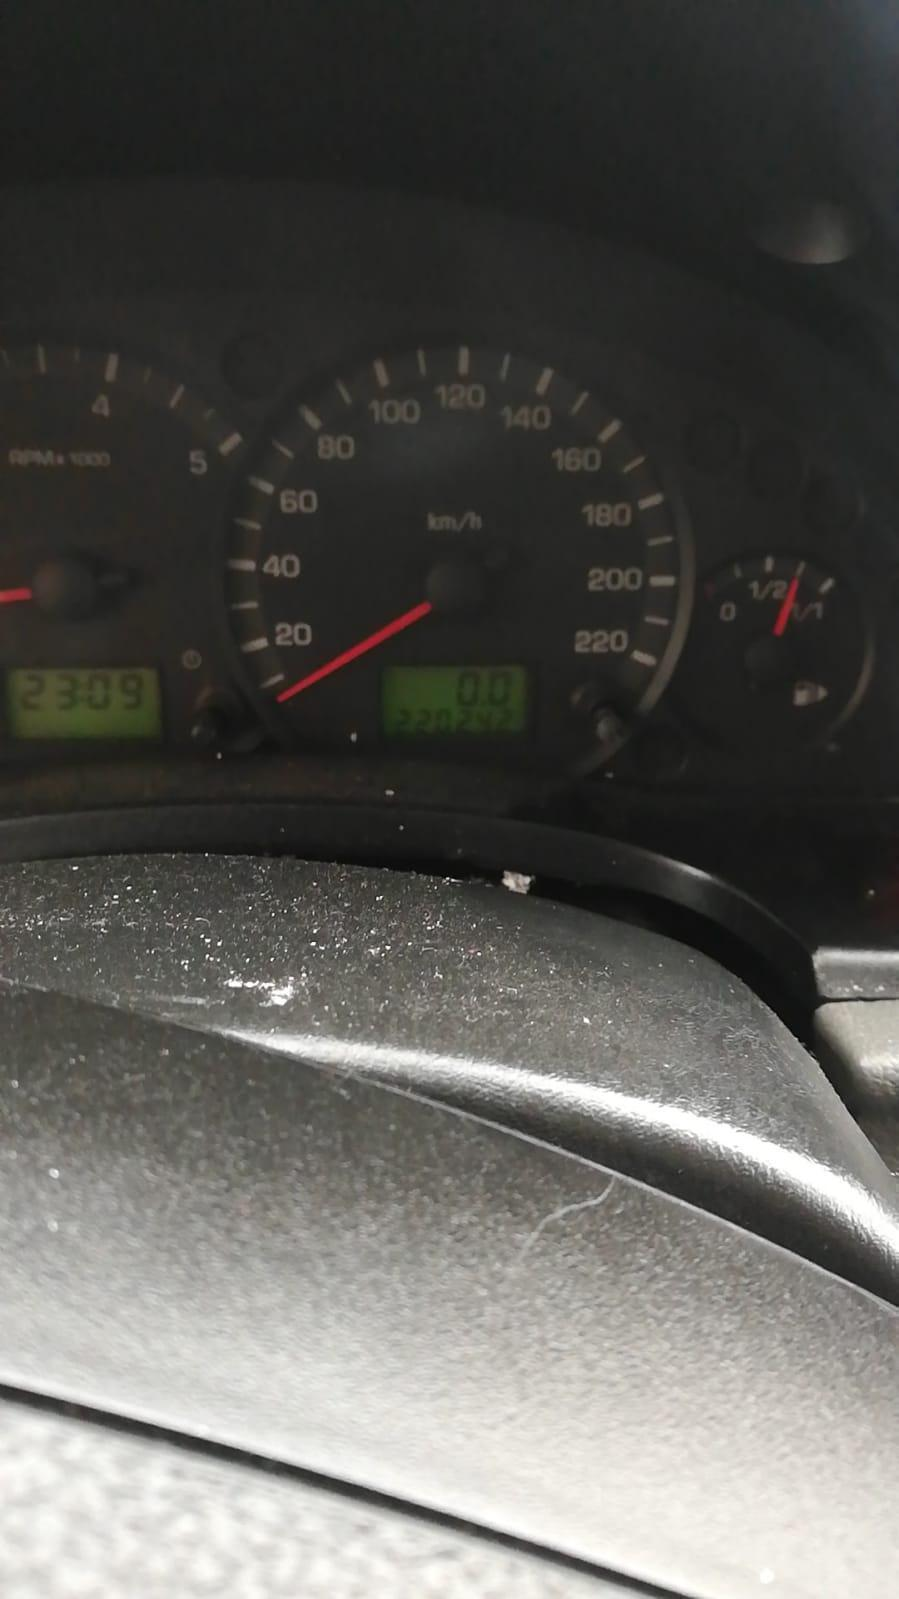0: (456, 669, 480, 706), (487, 669, 512, 705), (434, 707, 452, 734)
2: (413, 708, 431, 734), (456, 708, 474, 734), (494, 707, 512, 733), (395, 708, 412, 735)
4: (476, 708, 493, 733)
odometer: (374, 658, 533, 741)
